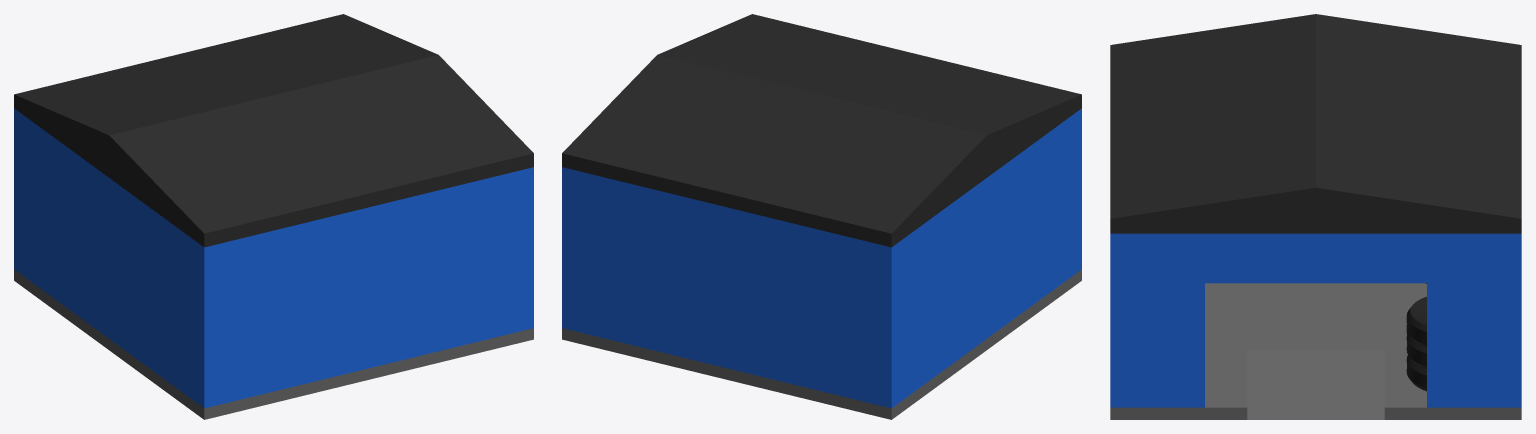
The model's file is Garage.fbx.
3 views of the same model, side by side, from view 1: azimuth 30°, elevation 25°; view 2: azimuth 150°, elevation 25°; view 3: azimuth 270°, elevation 25° (orthographic). The views are drawn at different scales.
Visible parts, largest first — view 1: Cube.002; view 2: Cube.002; view 3: Cube.002, Torus.004.
Boxes of the visible parts, left/top/right/bottom form: Cube.002: left=14, top=14, right=533, bottom=419; Cube.002: left=562, top=14, right=1081, bottom=419; Cube.002: left=1110, top=14, right=1521, bottom=419; Torus.004: left=1406, top=296, right=1426, bottom=391.
Bounding box in the file's own units: 600 × 374 × 600.
